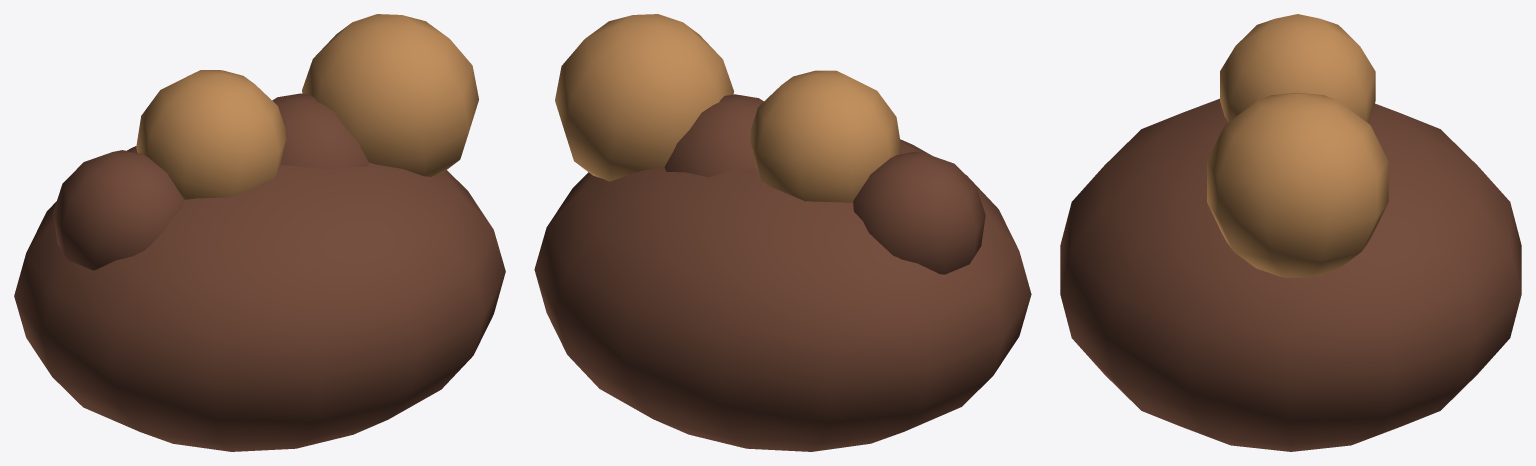
The model's file is resident_01_hair.glb.
3 views of the same model, side by side, from view 1: azimuth 30°, elevation 25°; view 2: azimuth 150°, elevation 25°; view 3: azimuth 270°, elevation 25° (orthographic). The views are drawn at different scales.
Parts seen in each view (by area): view 1: hair_cap, hair_detail_4, hair_detail_2, hair_detail_1, hair_detail_3; view 2: hair_cap, hair_detail_4, hair_detail_2, hair_detail_1, hair_detail_3; view 3: hair_cap, hair_detail_4, hair_detail_2.
Part boxes in pixels (x1,y1,x2,y2): hair_cap: (14, 146, 505, 451); hair_detail_4: (302, 14, 478, 176); hair_detail_2: (136, 70, 286, 199); hair_detail_1: (53, 150, 183, 270); hair_detail_3: (272, 93, 368, 170); hair_cap: (534, 139, 1031, 451); hair_detail_4: (555, 14, 733, 181); hair_detail_2: (750, 70, 901, 202); hair_detail_1: (853, 151, 985, 274); hair_detail_3: (664, 94, 763, 177); hair_cap: (1060, 98, 1521, 451); hair_detail_4: (1207, 92, 1388, 277); hair_detail_2: (1220, 14, 1375, 123).
Size of the model in its own units: 0.784 by 0.622 by 0.6824.
